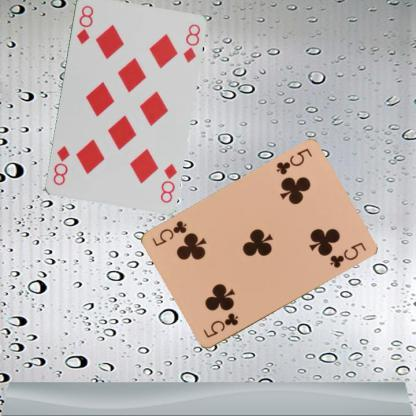5c: (274, 146, 313, 177), (200, 310, 240, 340)
8d: (157, 161, 178, 204), (74, 2, 94, 45)
